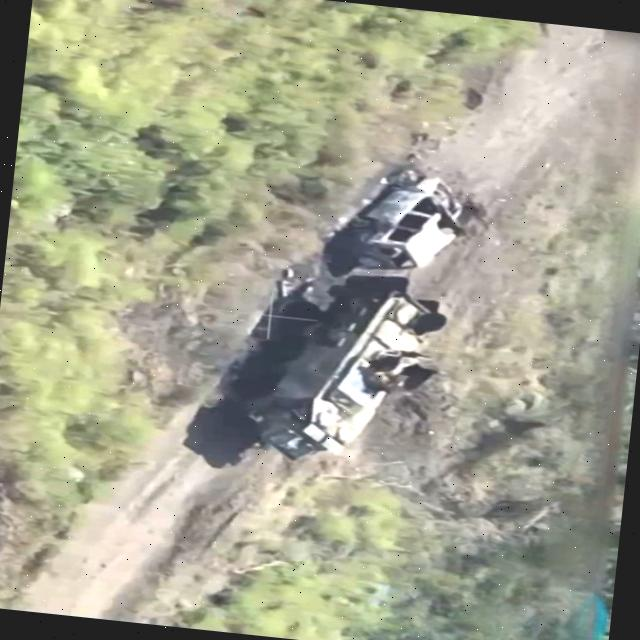APC: (219, 261, 450, 475)
Destroyed: (327, 163, 476, 279)
